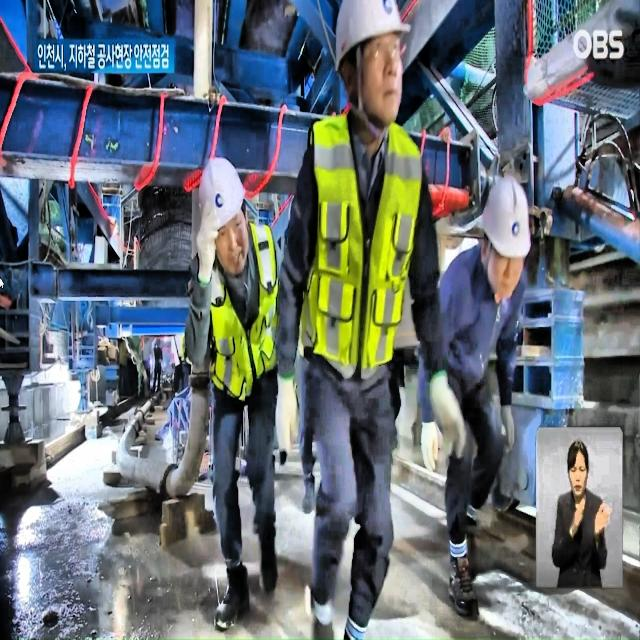safety_helmet: (472, 170, 548, 268), (194, 148, 263, 246), (332, 3, 416, 57)
safety_jacket: (304, 100, 422, 378), (192, 263, 298, 438)
